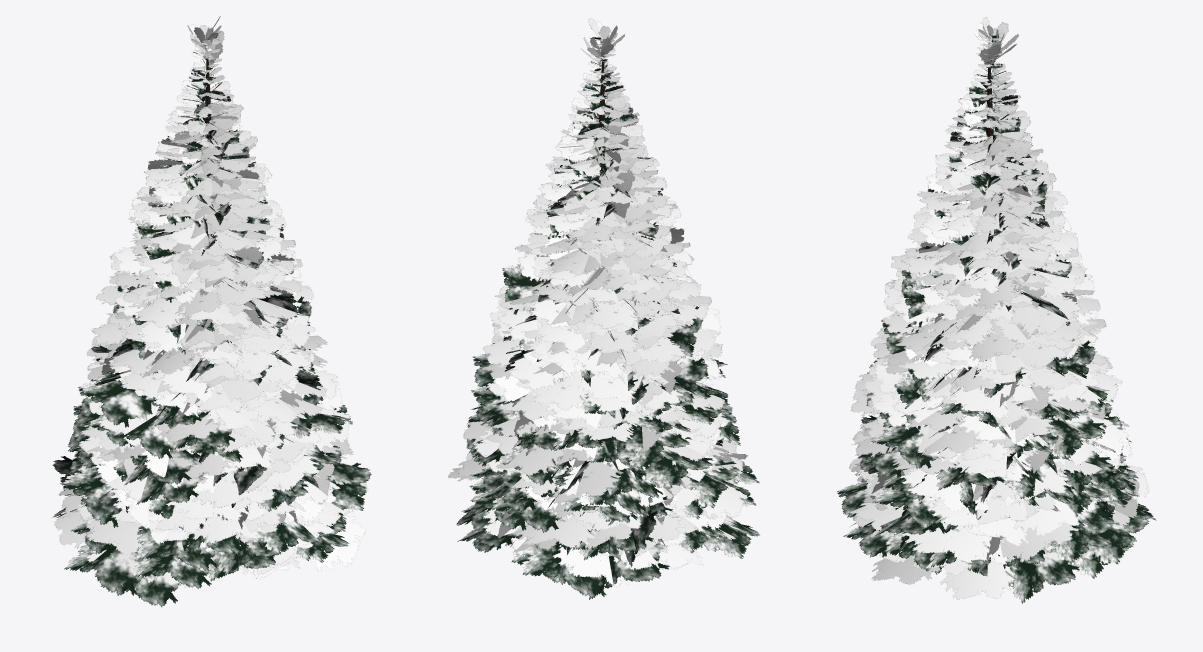
The model's file is SnowySpruce.fbx.
The picture shows the model from 3 angles, left to right: view 1: azimuth 30°, elevation 25°; view 2: azimuth 150°, elevation 25°; view 3: azimuth 270°, elevation 25°; orthographic projection. The views are drawn at different scales.
Parts seen in each view (by area): view 1: SnowySpruce; view 2: SnowySpruce; view 3: SnowySpruce.
Boxes of the visible parts, box(x1,y1,x2,y2) form: SnowySpruce: box(52, 16, 371, 607); SnowySpruce: box(448, 18, 759, 599); SnowySpruce: box(837, 17, 1156, 603).
Bounding box in the file's own units: 4 × 6.59 × 3.95.
Materials: 2 (2 with a texture image).
